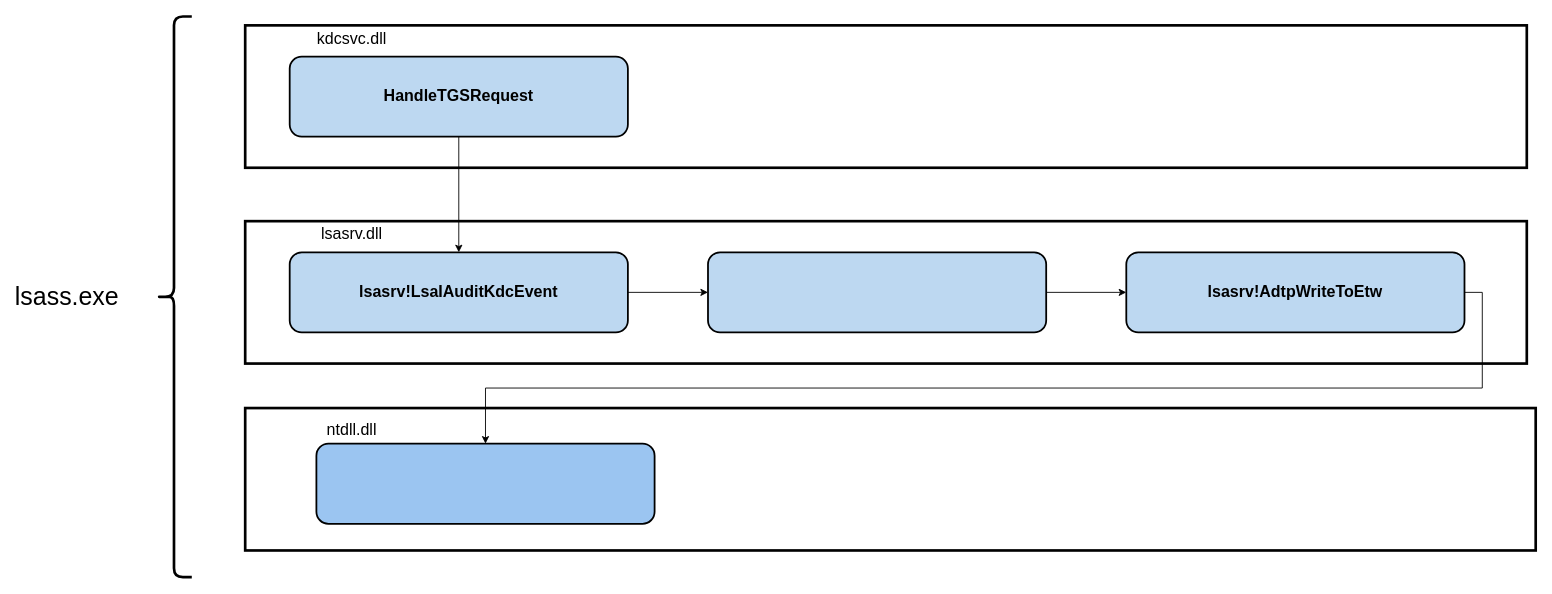
This 1552x594 diagram has some shape labels left out. Each missing label, with the box of its shape:
lsasrv!LsapAdtWriteLogEx: (707, 251, 1047, 333)
ntdll!EtwWriteUMSecurityEvent: (315, 442, 655, 524)
